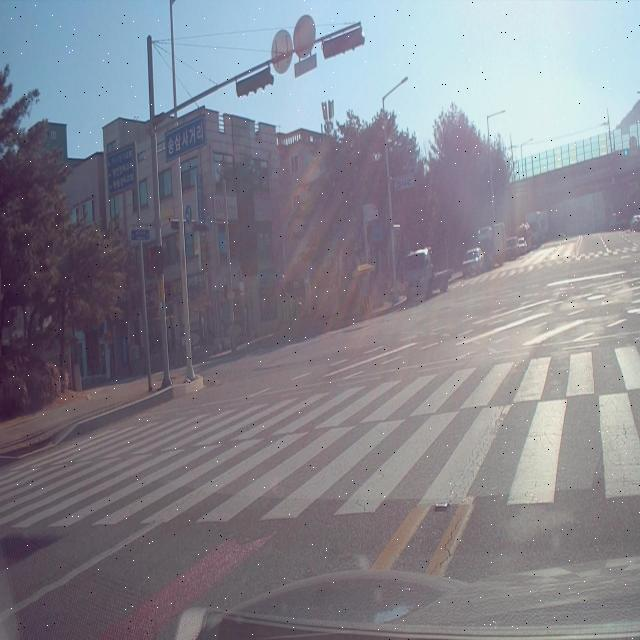crosswalk: (0, 344, 640, 527), (449, 246, 639, 289)
